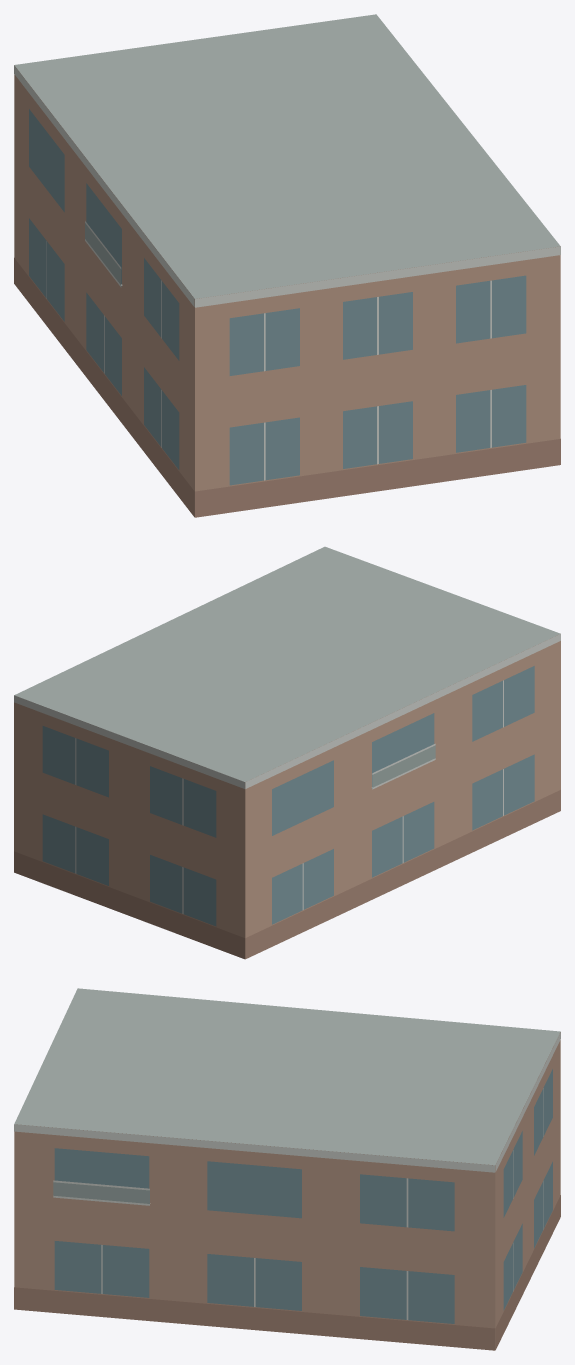
The model's file is survey-upis-32999055.glb.
3 views of the same model, one above another, from view 1: azimuth 30°, elevation 25°; view 2: azimuth 150°, elevation 25°; view 3: azimuth 270°, elevation 25° (orthographic). The views are drawn at different scales.
Parts seen in each view (by area): view 1: survey-upis-32999055.tmp; view 2: survey-upis-32999055.tmp; view 3: survey-upis-32999055.tmp.
Boxes of the visible parts, <box> form: survey-upis-32999055.tmp: <box>14,14,560,517</box>; survey-upis-32999055.tmp: <box>14,546,560,959</box>; survey-upis-32999055.tmp: <box>14,988,560,1350</box>.
Bounding box in the file's own units: 12.51 × 6.1 × 16.32.
